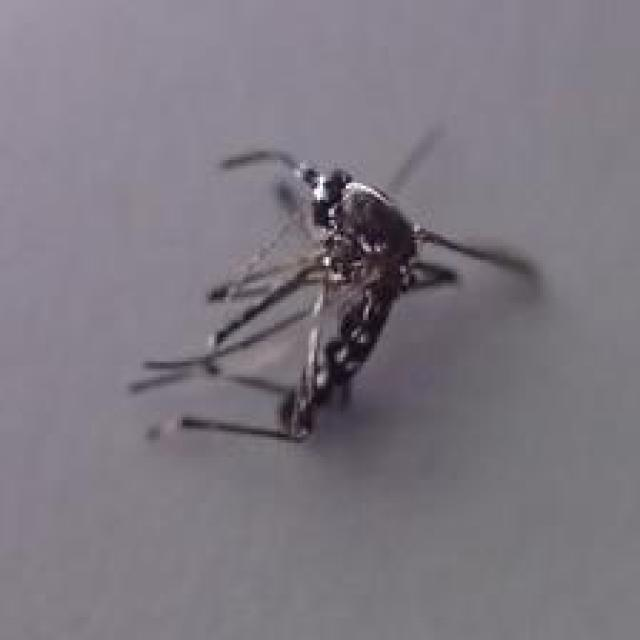Aedes albopictus: (127, 120, 542, 446)
